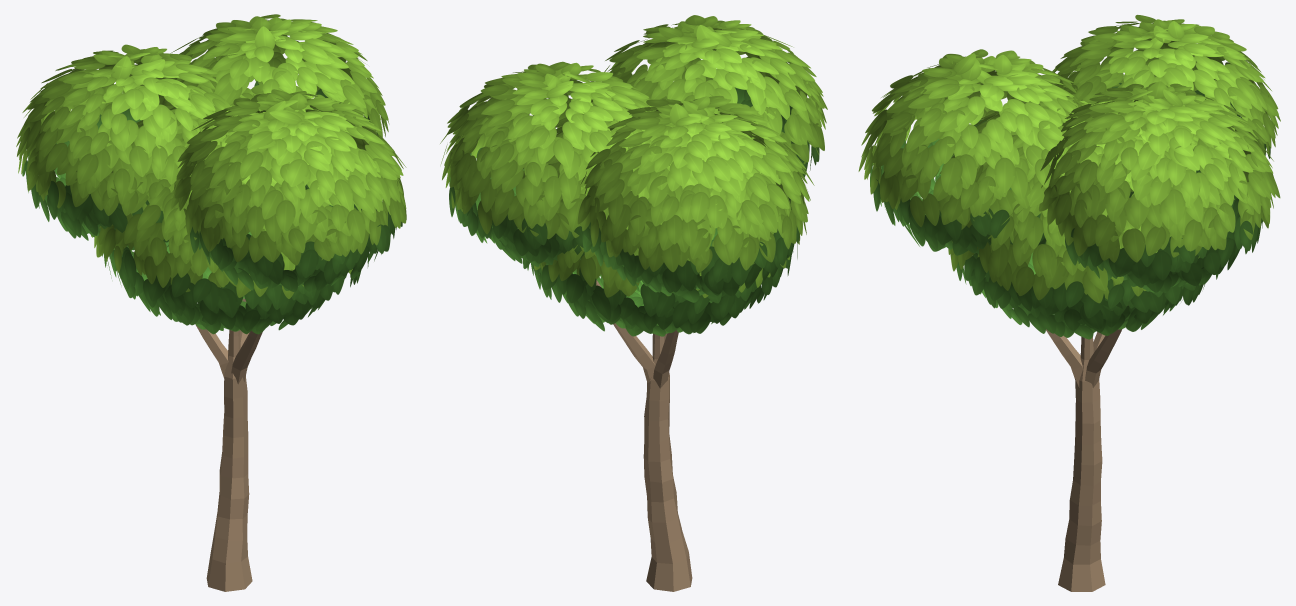
The model's file is tree_round.glb.
3 renders of one model, left to right at view 1: azimuth 30°, elevation 25°; view 2: azimuth 150°, elevation 25°; view 3: azimuth 270°, elevation 25°, orthographic. The views are drawn at different scales.
Visible parts, largest first — view 1: foliage, trunk; view 2: foliage, trunk; view 3: foliage, trunk.
Boxes of the visible parts, <box> form: foliage: <box>16,14,406,334</box>; trunk: <box>195,298,262,591</box>; foliage: <box>440,15,827,336</box>; trunk: <box>596,280,692,591</box>; foliage: <box>858,15,1280,339</box>; trunk: <box>1046,305,1128,591</box>.
Size of the model in its own units: 4.33 by 6.19 by 4.52.
3 materials, 2 textured.
